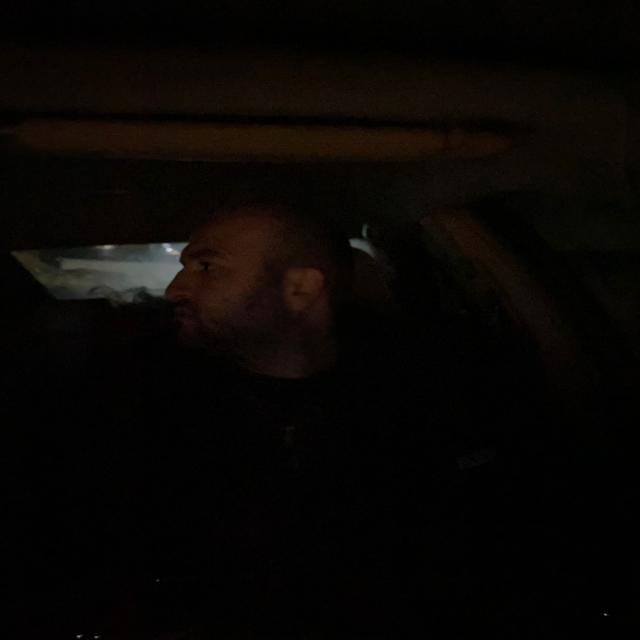LeftRight: (158, 198, 360, 369)
